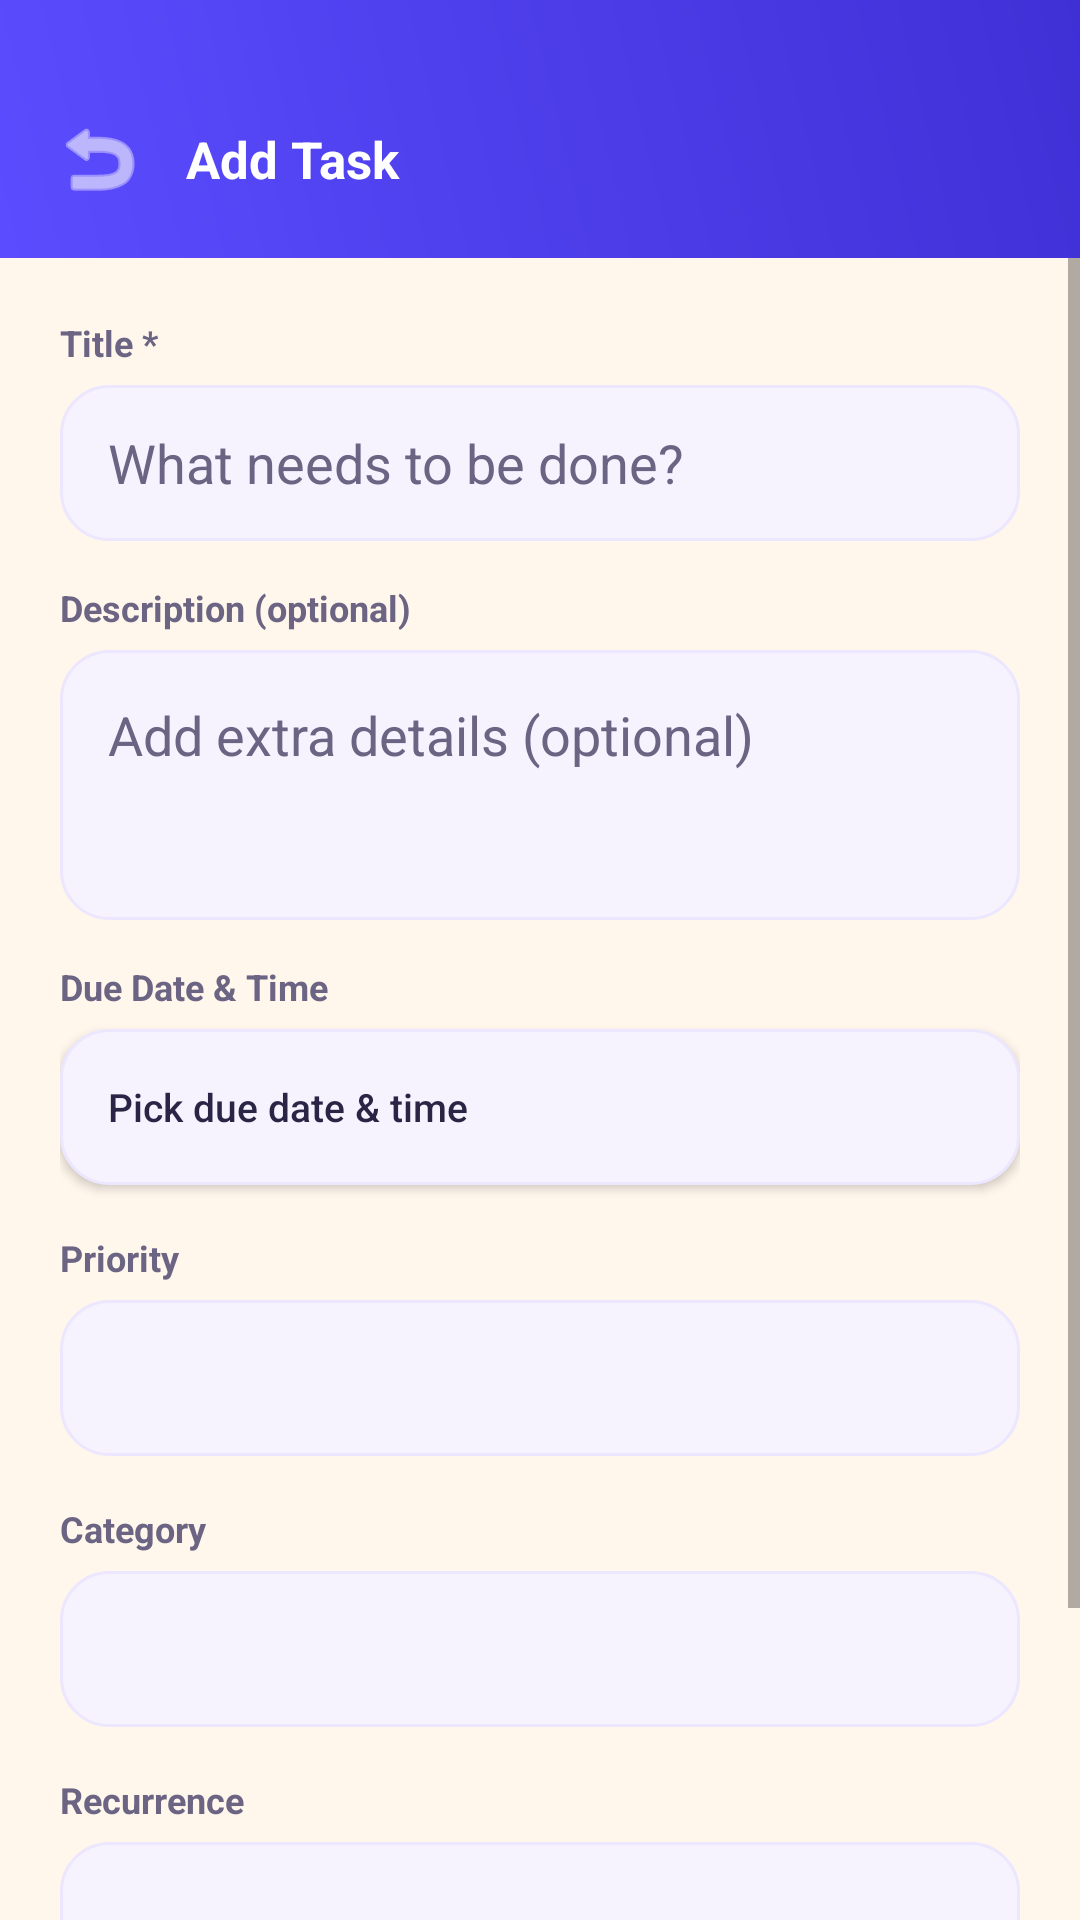

Icon bounding boxes for this 1080 x 1920 phone screenshot, format (x1, y1, x2, y2):
Back: (66, 128, 135, 191)
